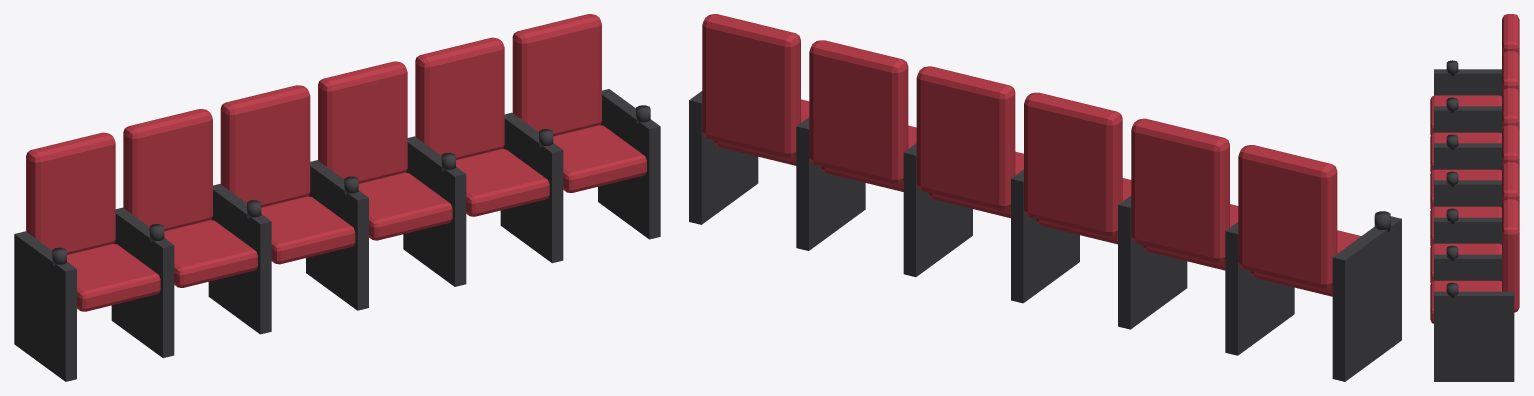
Rendered from cinema_seats.glb.
The picture shows the model from 3 angles, left to right: view 1: azimuth 30°, elevation 25°; view 2: azimuth 150°, elevation 25°; view 3: azimuth 270°, elevation 25°; orthographic projection. The views are drawn at different scales.
Visible parts, largest first — view 1: cinema_seats; view 2: cinema_seats; view 3: cinema_seats.
Part boxes in pixels (box(x1,y1,x2,y2)): cinema_seats: box(14, 14, 660, 381); cinema_seats: box(689, 14, 1401, 381); cinema_seats: box(1430, 14, 1519, 381).
Size of the model in its own units: 3.68 by 1.12 by 0.61.
